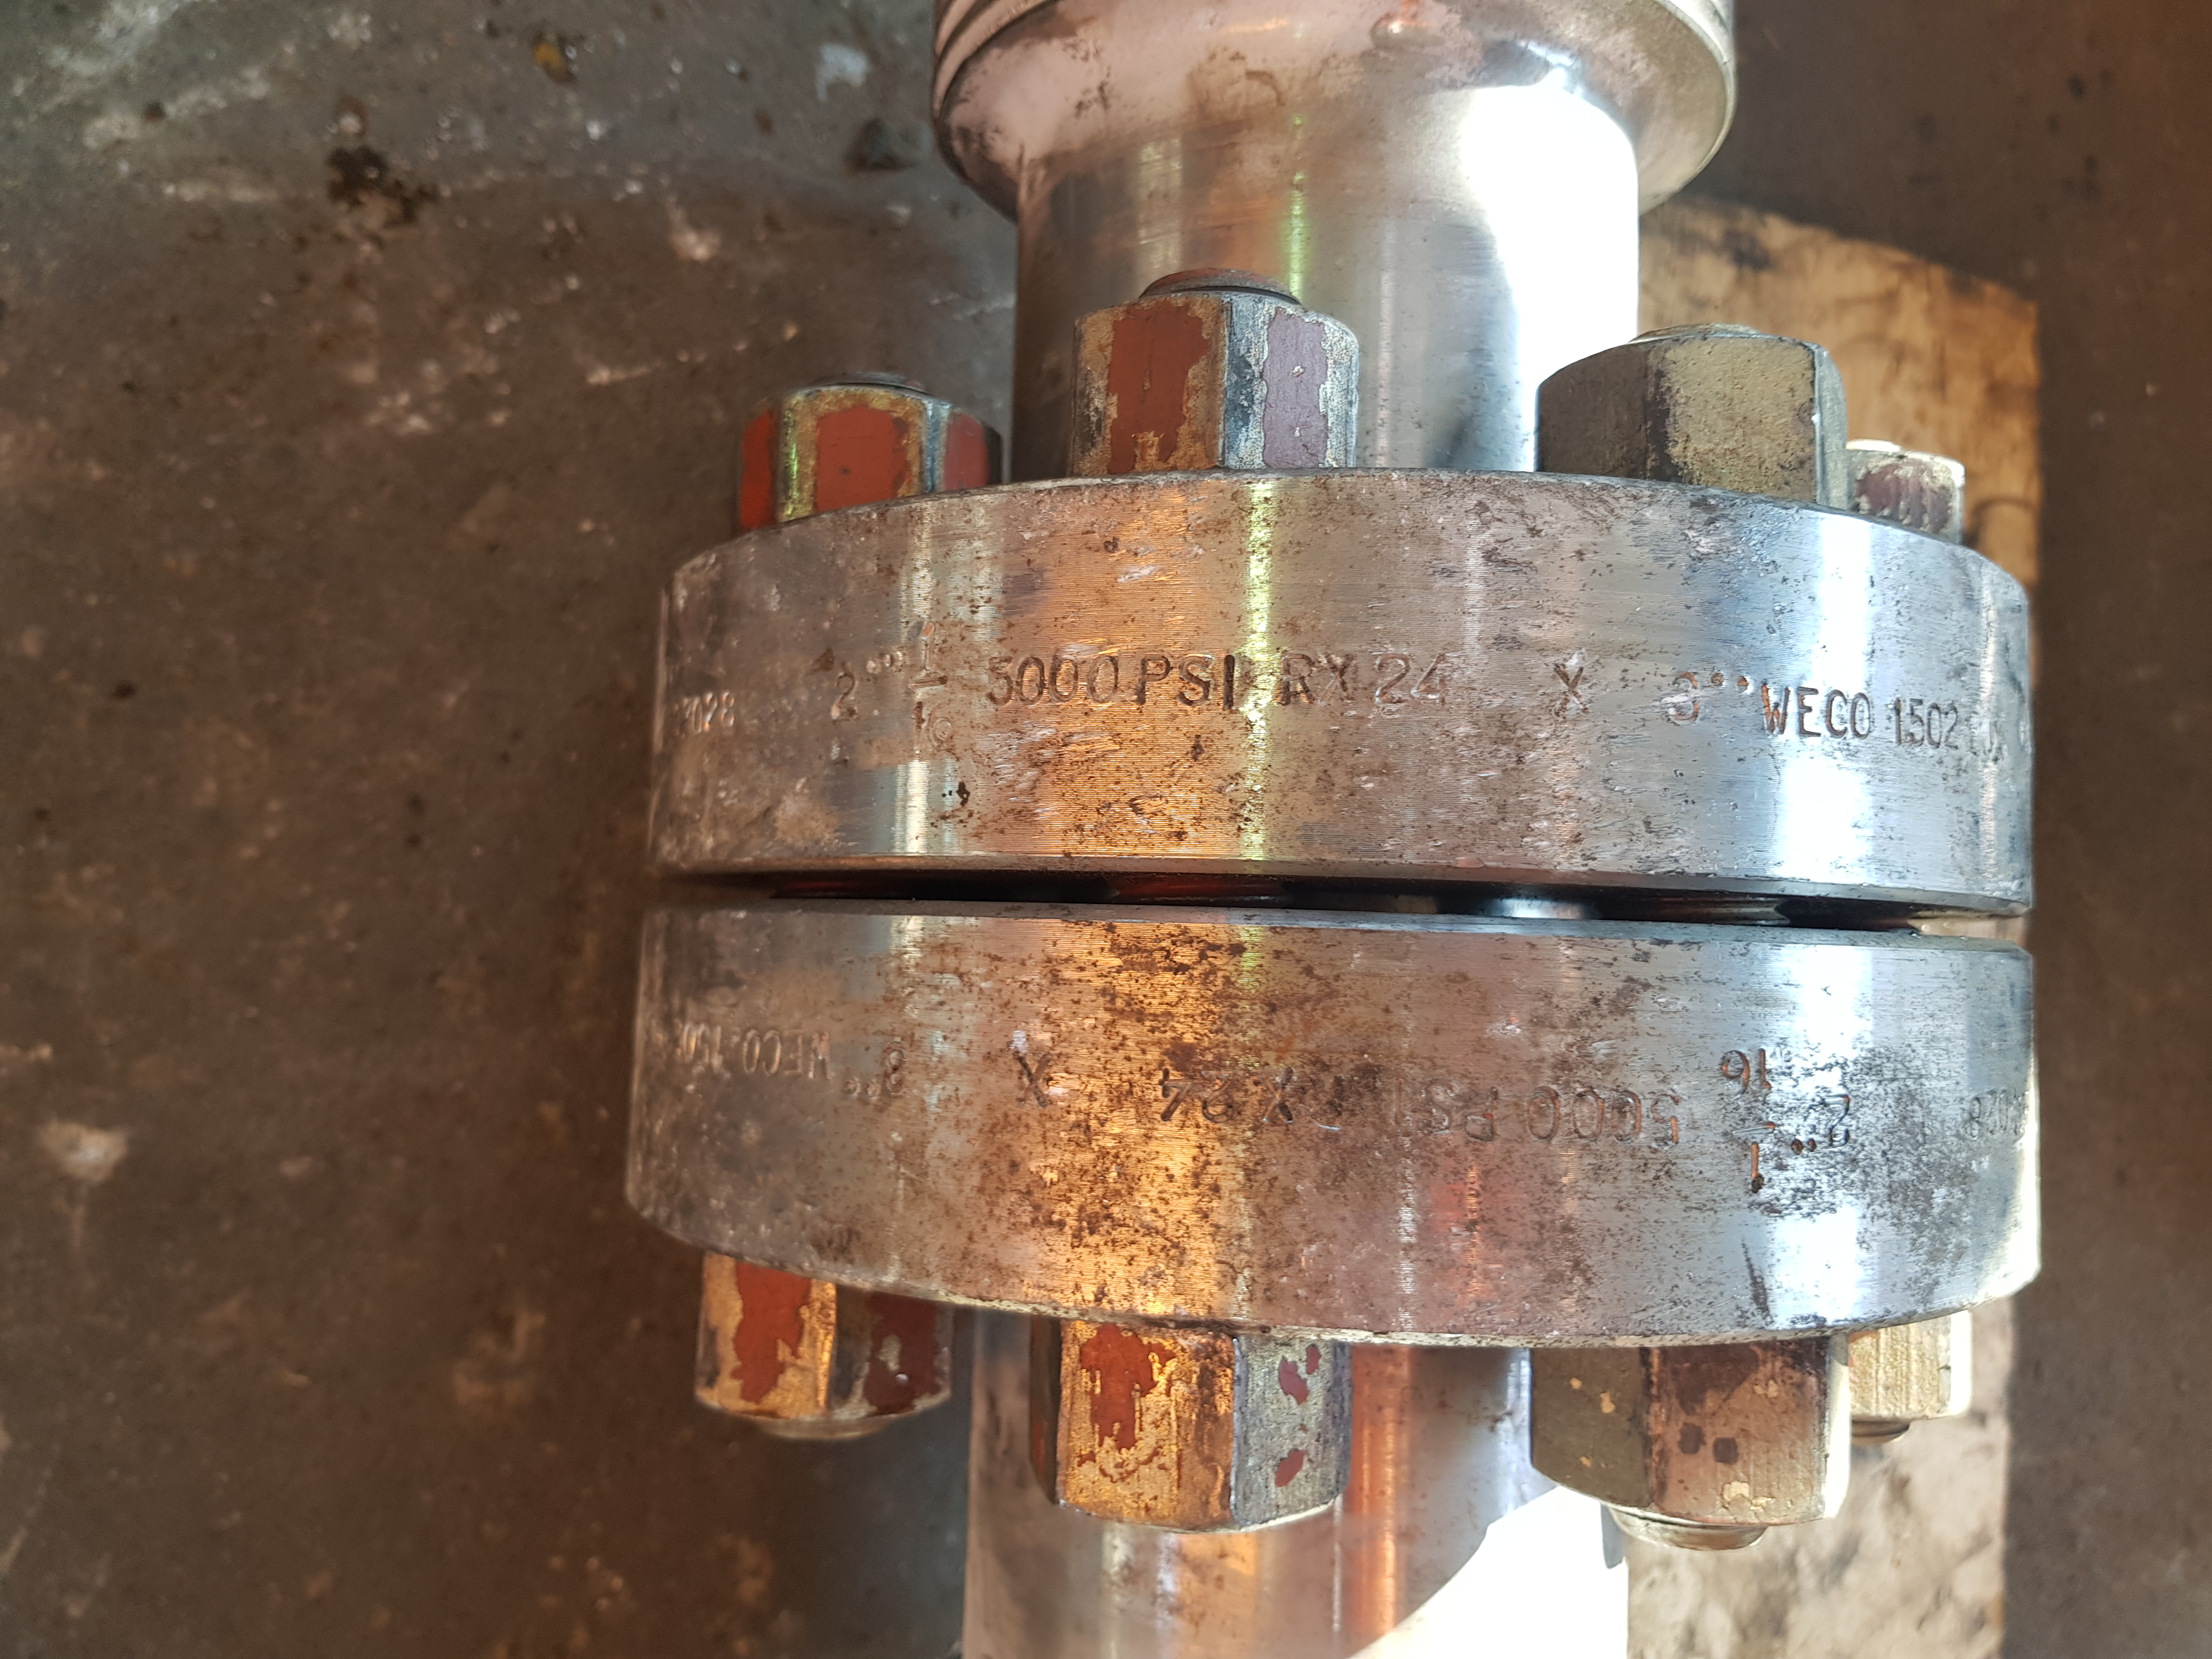character: (1543, 659, 1599, 720), (1409, 650, 1461, 711), (1273, 643, 1320, 709), (1371, 648, 1414, 713), (1318, 647, 1364, 706), (1177, 650, 1217, 713), (1754, 676, 1794, 737), (1085, 650, 1123, 711), (1219, 645, 1249, 723), (981, 650, 1019, 709), (1134, 650, 1174, 706), (1045, 652, 1083, 709), (1791, 681, 1824, 744), (1014, 650, 1045, 708), (1848, 690, 1879, 746), (1824, 683, 1851, 741), (1879, 694, 1907, 746), (1905, 695, 1926, 749), (1944, 702, 1965, 755), (1925, 702, 1942, 756)
